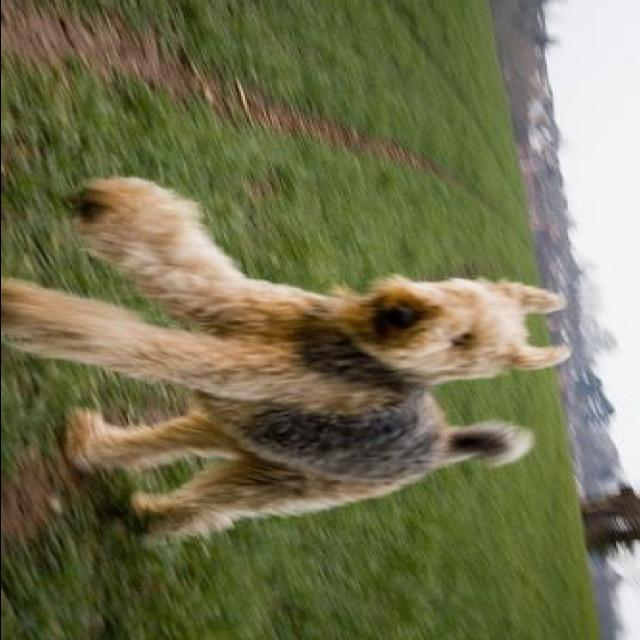airedale: (2, 178, 571, 538)
